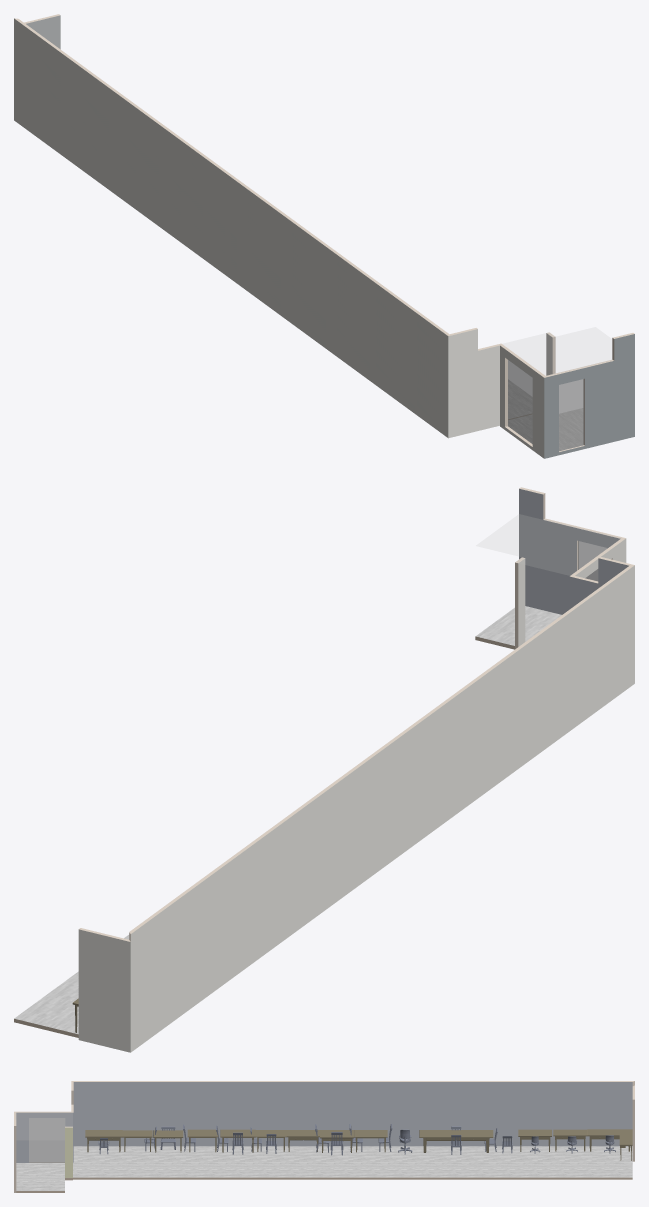
3 views of the same model, one above another, from view 1: azimuth 30°, elevation 25°; view 2: azimuth 150°, elevation 25°; view 3: azimuth 270°, elevation 25° (orthographic). The views are drawn at different scales.
Parts seen in each view (by area): view 1: wall_0 (×2), wall_3, wall_2, door_1 (×2), door_0 (×2), ceiling_Other_0, wall_5, wall_1, floor_Other_0, floor_Dining Room_0, wall_4; view 2: wall_0 (×2), wall_4, ceiling_Other_0, wall_2, wall_5, floor_Dining Room_0, floor_Other_0, wall_3; view 3: wall_0 (×2), floor_Dining Room_0 (×2), door_1 (×2), ceiling_Other_0, floor_Other_0, wall_1, table7, table11, table6, wall_6, table2, table9 (+14 smaller).
Boxes of the visible parts, box(x1,y1,x2,y2) form: wall_0 (×2): box(14, 18, 449, 437); wall_3: box(448, 329, 499, 438); wall_2: box(544, 361, 614, 458); door_1 (×2): box(508, 360, 532, 443); door_0 (×2): box(559, 379, 583, 450); ceiling_Other_0: box(503, 327, 611, 375); wall_5: box(614, 334, 634, 441); wall_1: box(500, 345, 544, 458); floor_Other_0: box(508, 408, 583, 450); floor_Dining Room_0: box(508, 379, 532, 418); wall_4: box(26, 15, 60, 49); wall_0 (×2): box(129, 565, 634, 1052); wall_4: box(78, 929, 130, 1052); ceiling_Other_0: box(476, 514, 620, 575); wall_2: box(543, 520, 620, 614); wall_5: box(519, 488, 543, 609); floor_Dining Room_0: box(14, 934, 129, 1034); floor_Other_0: box(475, 606, 561, 645); wall_3: box(569, 558, 628, 609); wall_0 (×2): box(72, 1081, 634, 1146); floor_Dining Room_0 (×2): box(73, 1146, 632, 1179); door_1 (×2): box(29, 1118, 64, 1162); ceiling_Other_0: box(15, 1113, 72, 1139); floor_Other_0: box(16, 1163, 64, 1190); wall_1: box(16, 1112, 73, 1162); table7: box(419, 1130, 493, 1152); table11: box(587, 1129, 632, 1151); table6: box(85, 1130, 122, 1152); wall_6: box(65, 1127, 72, 1177); table2: box(286, 1130, 319, 1151); table9: box(553, 1129, 587, 1151).
Bounding box in the file's own units: 4.73 × 3.27 × 27.55.
13 materials, 2 textured.
